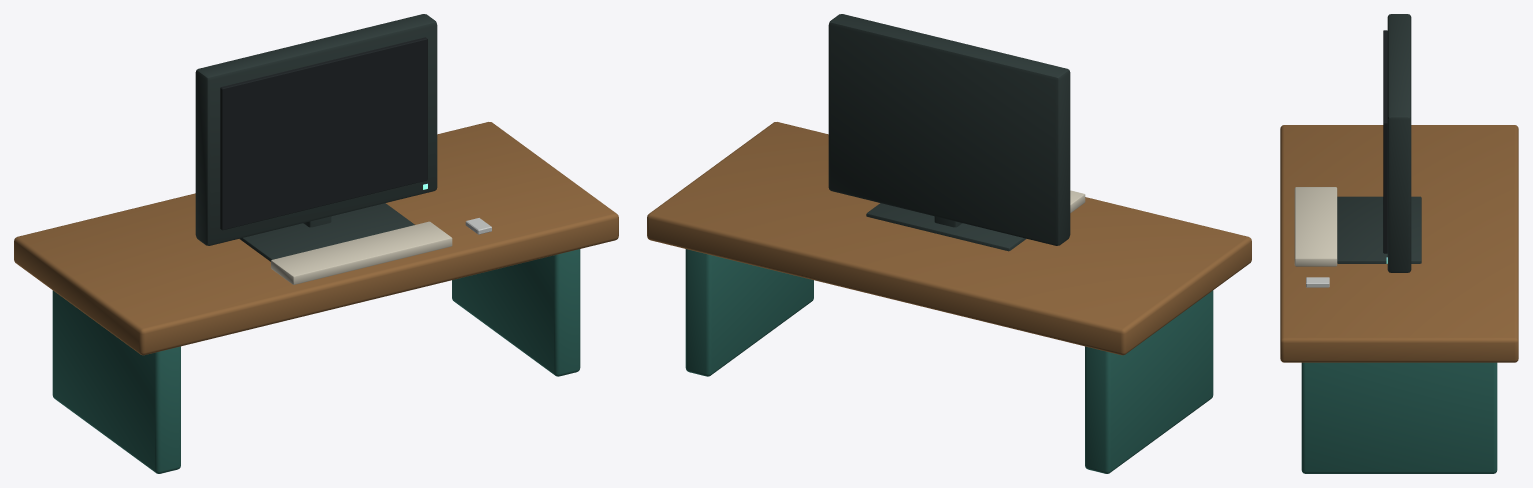
File: workstation.glb
3 renders of one model, left to right at view 1: azimuth 30°, elevation 25°; view 2: azimuth 150°, elevation 25°; view 3: azimuth 270°, elevation 25°, orthographic. The views are drawn at different scales.
Parts seen in each view (by area): view 1: workstation; view 2: workstation; view 3: workstation.
Part boxes in pixels (x1=…): workstation: x1=14, y1=14, x2=618, y2=473; workstation: x1=647, y1=14, x2=1251, y2=473; workstation: x1=1280, y1=14, x2=1518, y2=473.
Size of the model in its own units: 3 by 2.04 by 1.4.
